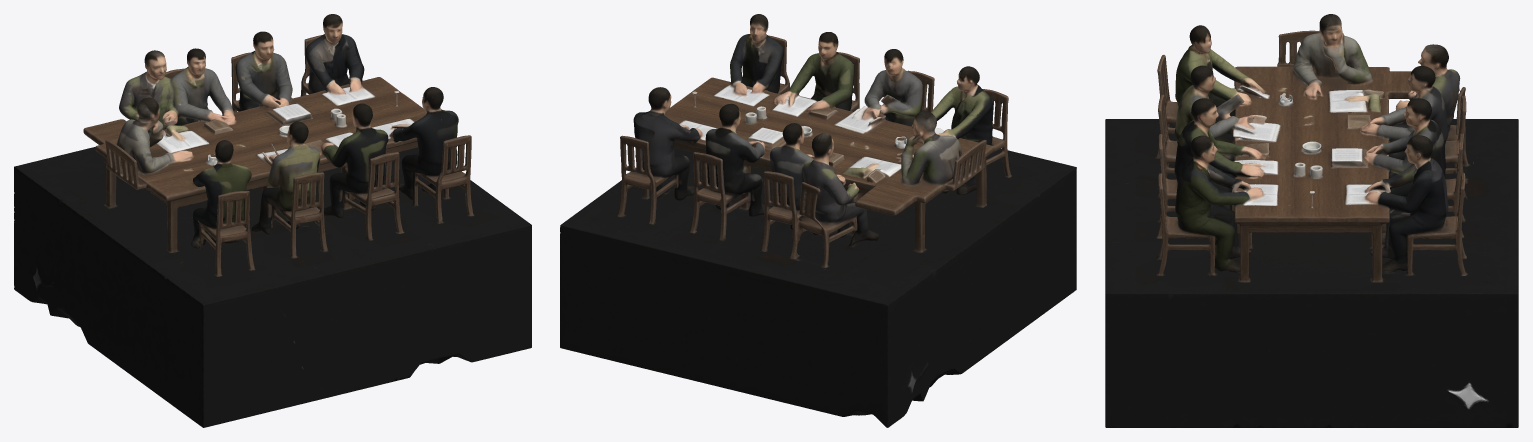
Rendered from dai_hoi_dang_toan_quoc.glb.
The picture shows the model from 3 angles, left to right: view 1: azimuth 30°, elevation 25°; view 2: azimuth 150°, elevation 25°; view 3: azimuth 270°, elevation 25°; orthographic projection. The views are drawn at different scales.
Bounding box in the file's own units: 1.66 × 1.16 × 1.64.
Materials: 1 (1 with a texture image).
